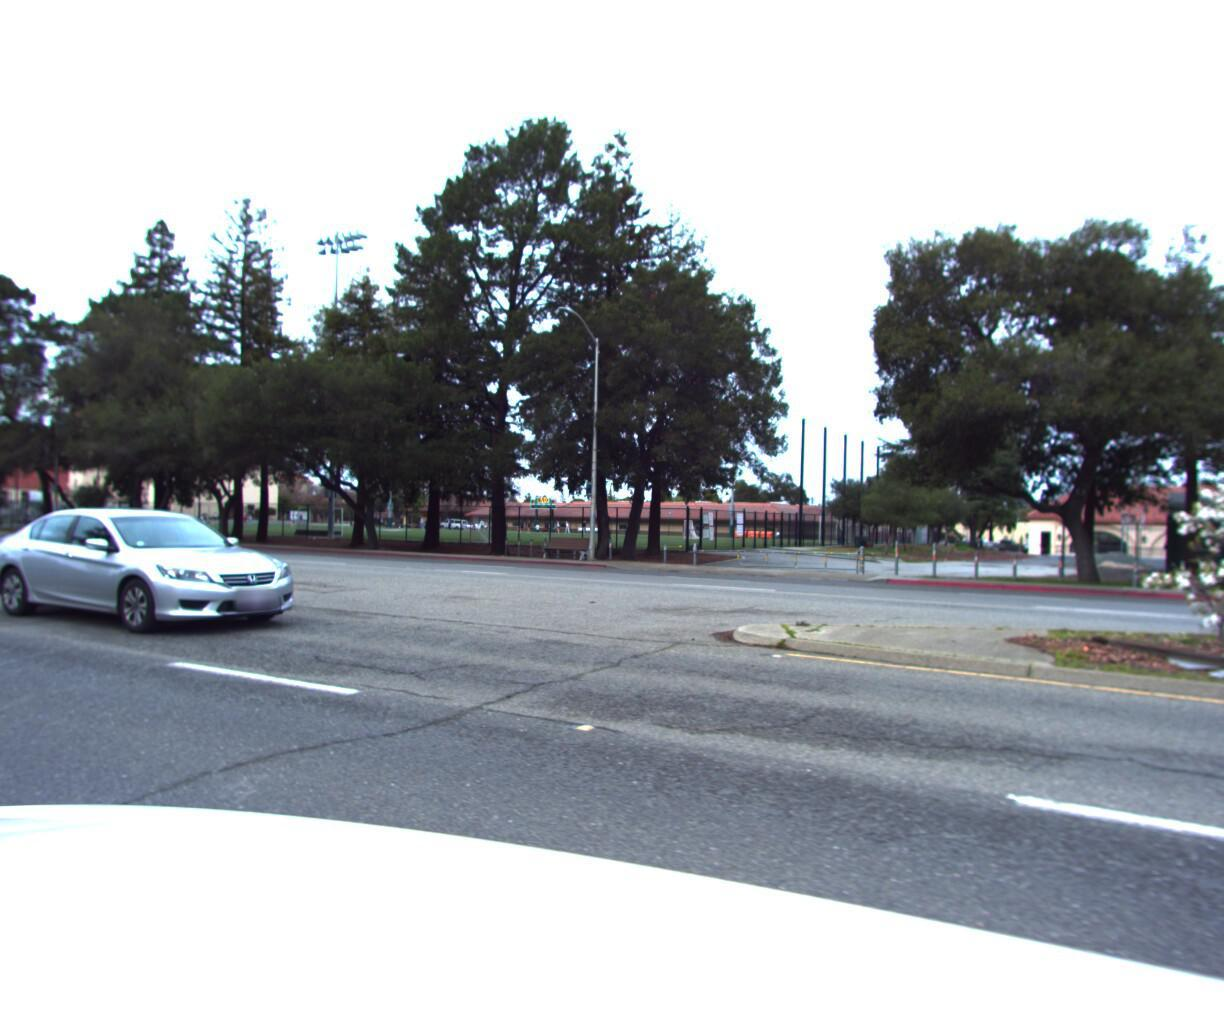car: (0, 496, 338, 657)
